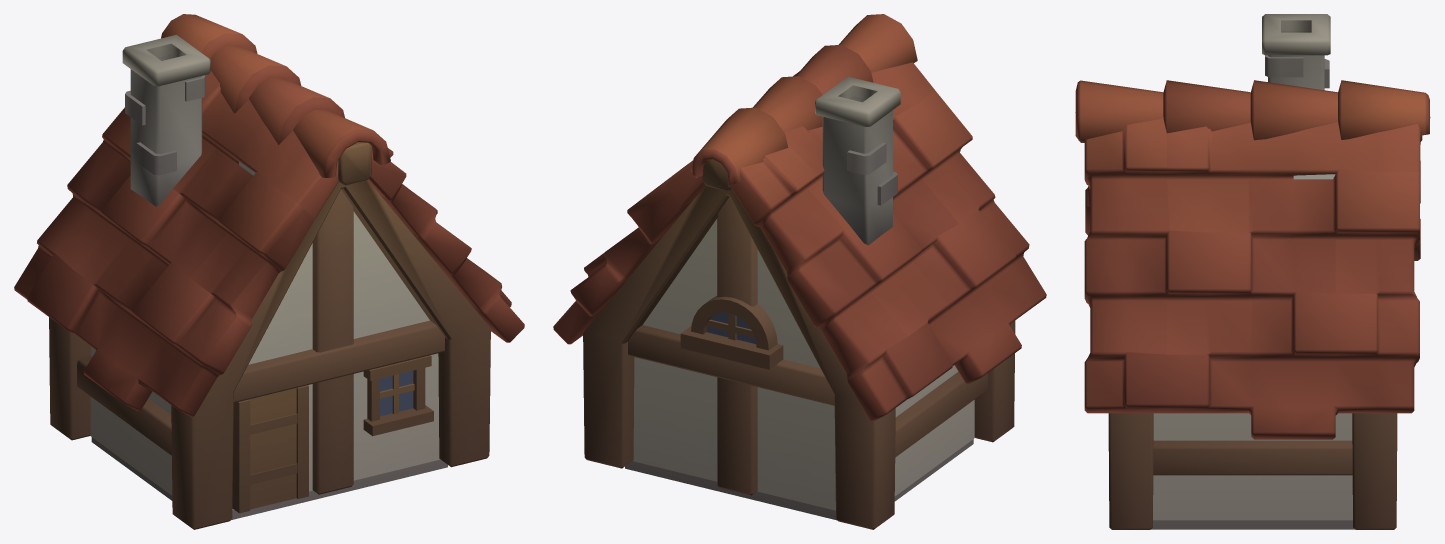
File: houseBevel_1.fbx
3 views of the same model, side by side, from view 1: azimuth 30°, elevation 25°; view 2: azimuth 150°, elevation 25°; view 3: azimuth 270°, elevation 25° (orthographic). The views are drawn at different scales.
Visible parts, largest first — view 1: houseBevel_1; view 2: houseBevel_1; view 3: houseBevel_1.
Part boxes in pixels (box(x1,y1,x2,y2)): houseBevel_1: box(14, 14, 524, 529); houseBevel_1: box(553, 14, 1046, 529); houseBevel_1: box(1075, 14, 1430, 529).
Bounding box in the file's own units: 401 × 417 × 332.
